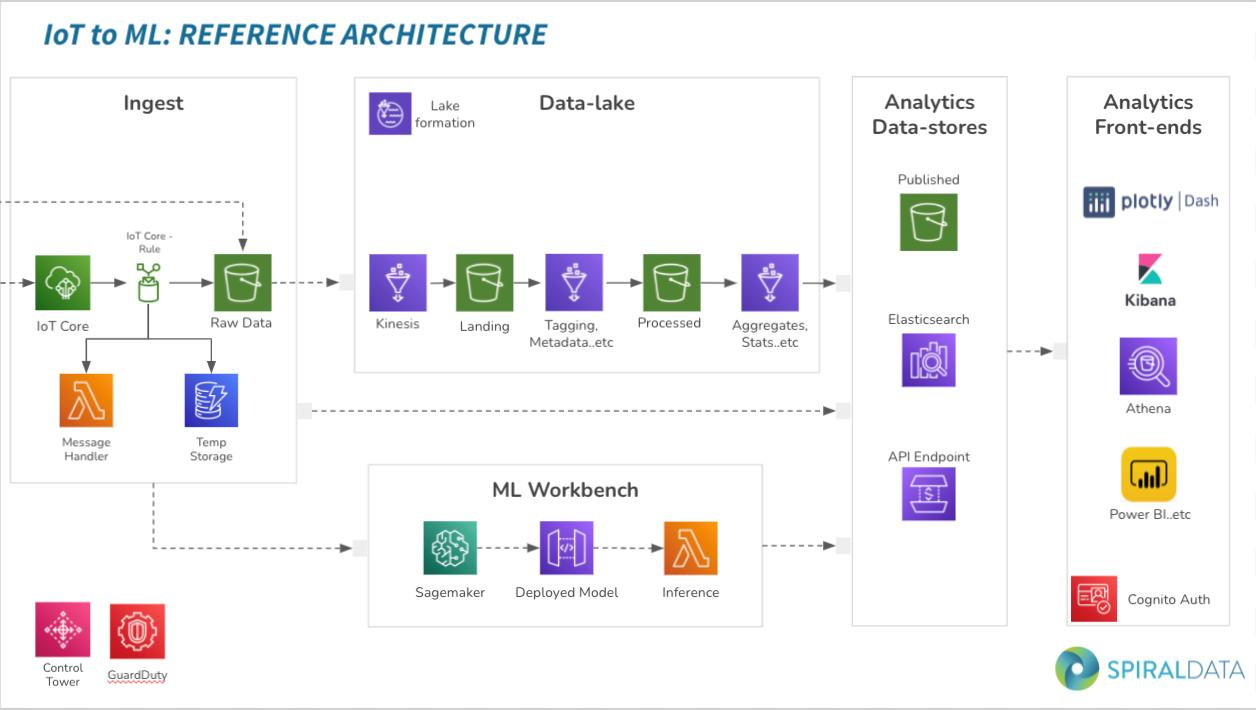AI Service: (40, 257, 91, 307)
API Gateway: (906, 466, 949, 518), (543, 523, 589, 571)
Backend: (662, 523, 717, 577), (748, 256, 797, 308), (61, 376, 113, 424), (372, 257, 420, 308), (552, 256, 597, 308)
Database: (188, 377, 238, 423)
Firewall: (116, 603, 163, 659)
Frontend: (1126, 340, 1177, 396)
Macine Learning: (428, 524, 474, 577)
Search: (904, 337, 953, 386)
Storage: (460, 254, 508, 309), (646, 258, 698, 307), (219, 259, 266, 310), (906, 196, 951, 248)
Workflow Engine: (39, 603, 90, 657)
